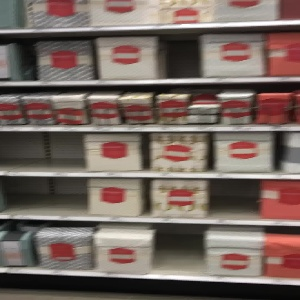void: (1, 128, 82, 175), (1, 176, 87, 218), (151, 224, 205, 277), (209, 176, 263, 221), (155, 29, 200, 81)
